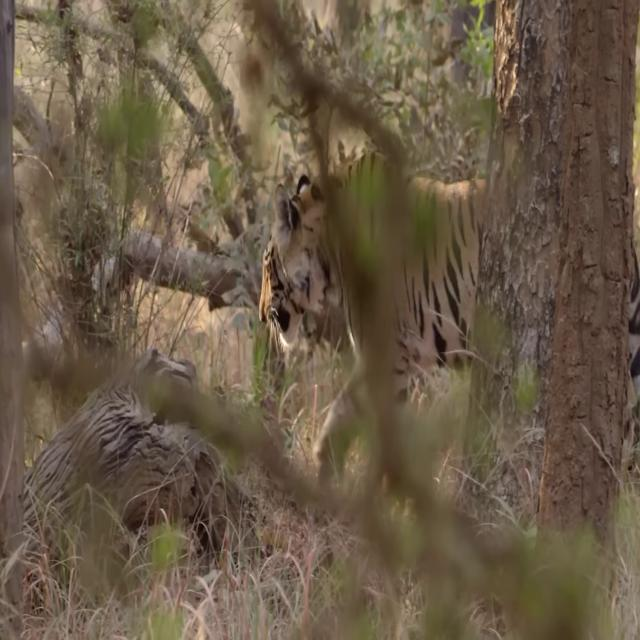tiger: (257, 148, 640, 496)
